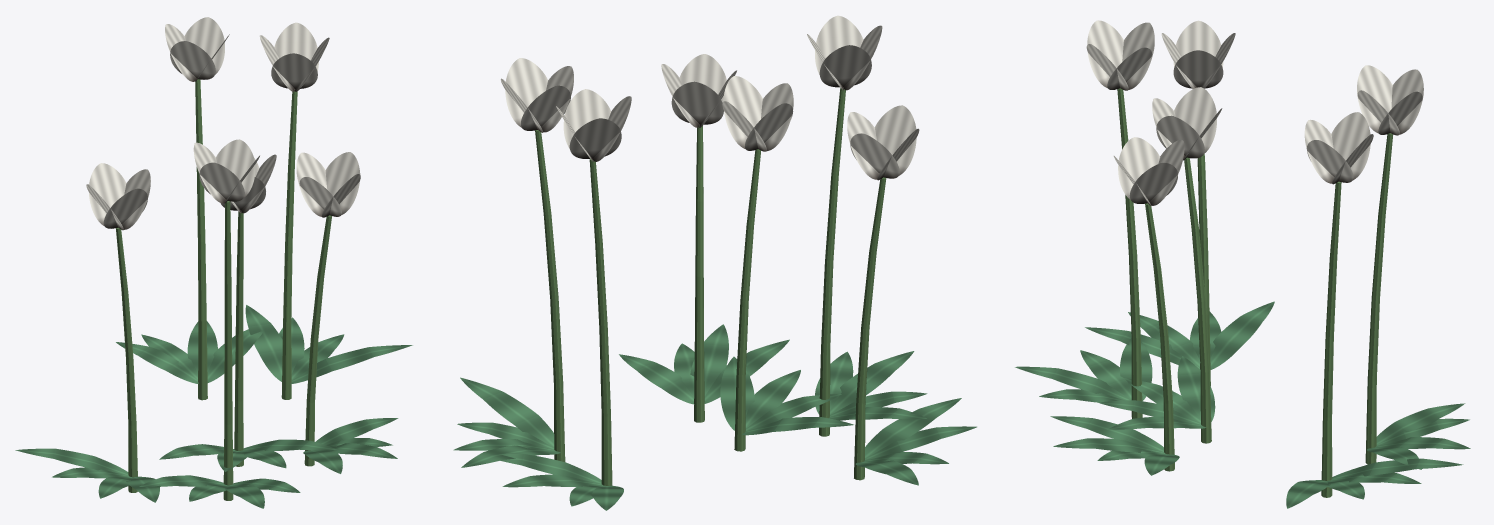
File: arctic_poppy_v01.fbx
The picture shows the model from 3 angles, left to right: view 1: azimuth 30°, elevation 25°; view 2: azimuth 150°, elevation 25°; view 3: azimuth 270°, elevation 25°; orthographic projection. The views are drawn at different scales.
Parts seen in each view (by area): view 1: arctic_poppy_v01; view 2: arctic_poppy_v01; view 3: arctic_poppy_v01.
Boxes of the visible parts, x1,y1,x2,y2 form: arctic_poppy_v01: [15, 17, 412, 508]; arctic_poppy_v01: [453, 15, 976, 510]; arctic_poppy_v01: [1015, 20, 1470, 508].
Bounding box in the file's own units: 30.56 × 28.06 × 25.56.
Materials: 3 (3 with a texture image).
